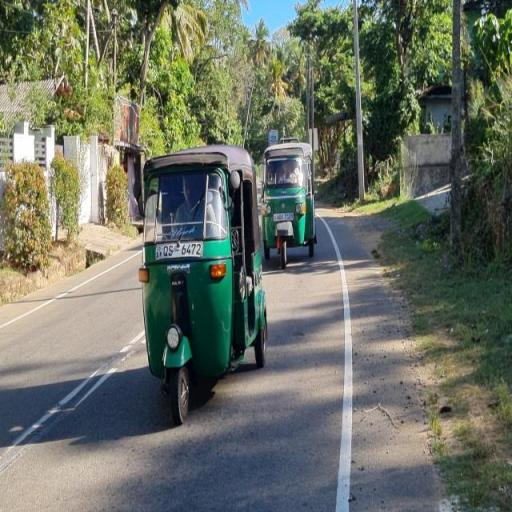double_white_line: (0, 322, 140, 472)
